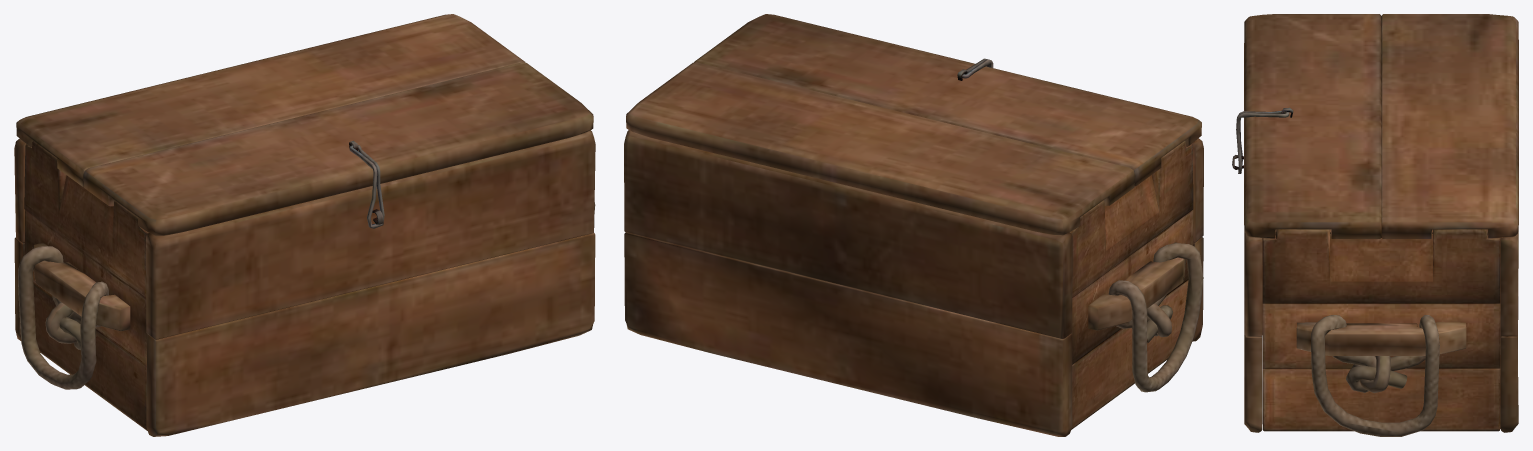
Rendered from wooden_crate_01.glb.
The picture shows the model from 3 angles, left to right: view 1: azimuth 30°, elevation 25°; view 2: azimuth 150°, elevation 25°; view 3: azimuth 270°, elevation 25°; orthographic projection. The views are drawn at different scales.
Parts seen in each view (by area): view 1: wooden_crate_01_lid; view 2: wooden_crate_01_lid; view 3: wooden_crate_01_lid.
Boxes of the visible parts, bbox=[...] form: wooden_crate_01_lid: bbox=[14, 14, 595, 436]; wooden_crate_01_lid: bbox=[624, 14, 1203, 436]; wooden_crate_01_lid: bbox=[1232, 14, 1518, 436].
Size of the model in its own units: 0.8253 by 0.3495 by 0.4085.
Materials: 1 (1 with a texture image).
